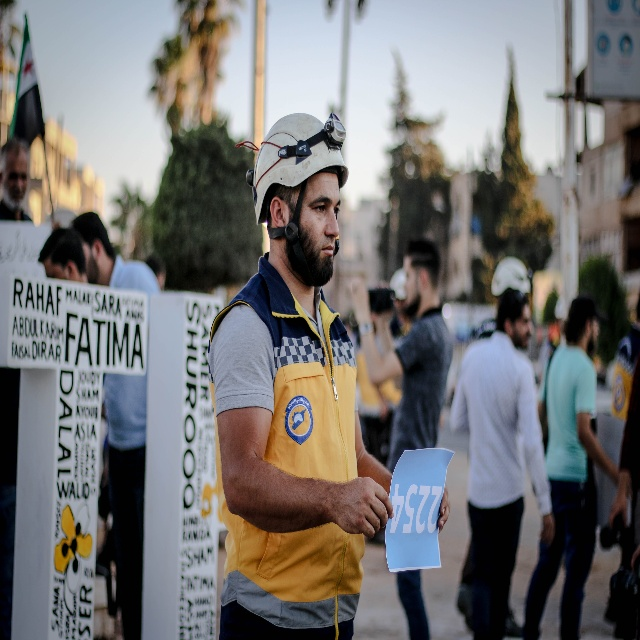Sin_guantes: (338, 475, 394, 543), (438, 485, 450, 532), (540, 514, 555, 544)
